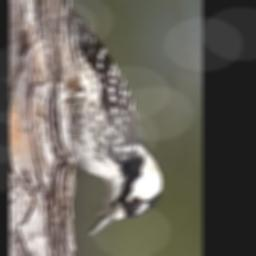Woodpecker: (56, 8, 167, 238)
